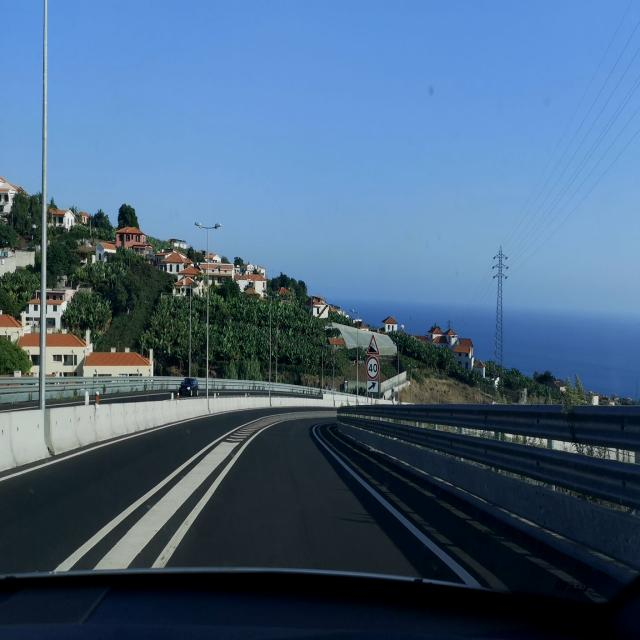car: (177, 377, 200, 398)
